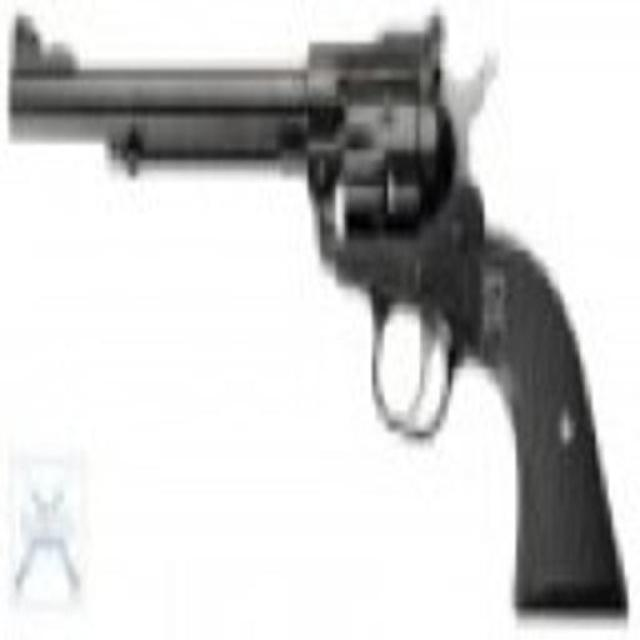pistol: (11, 21, 620, 602)
